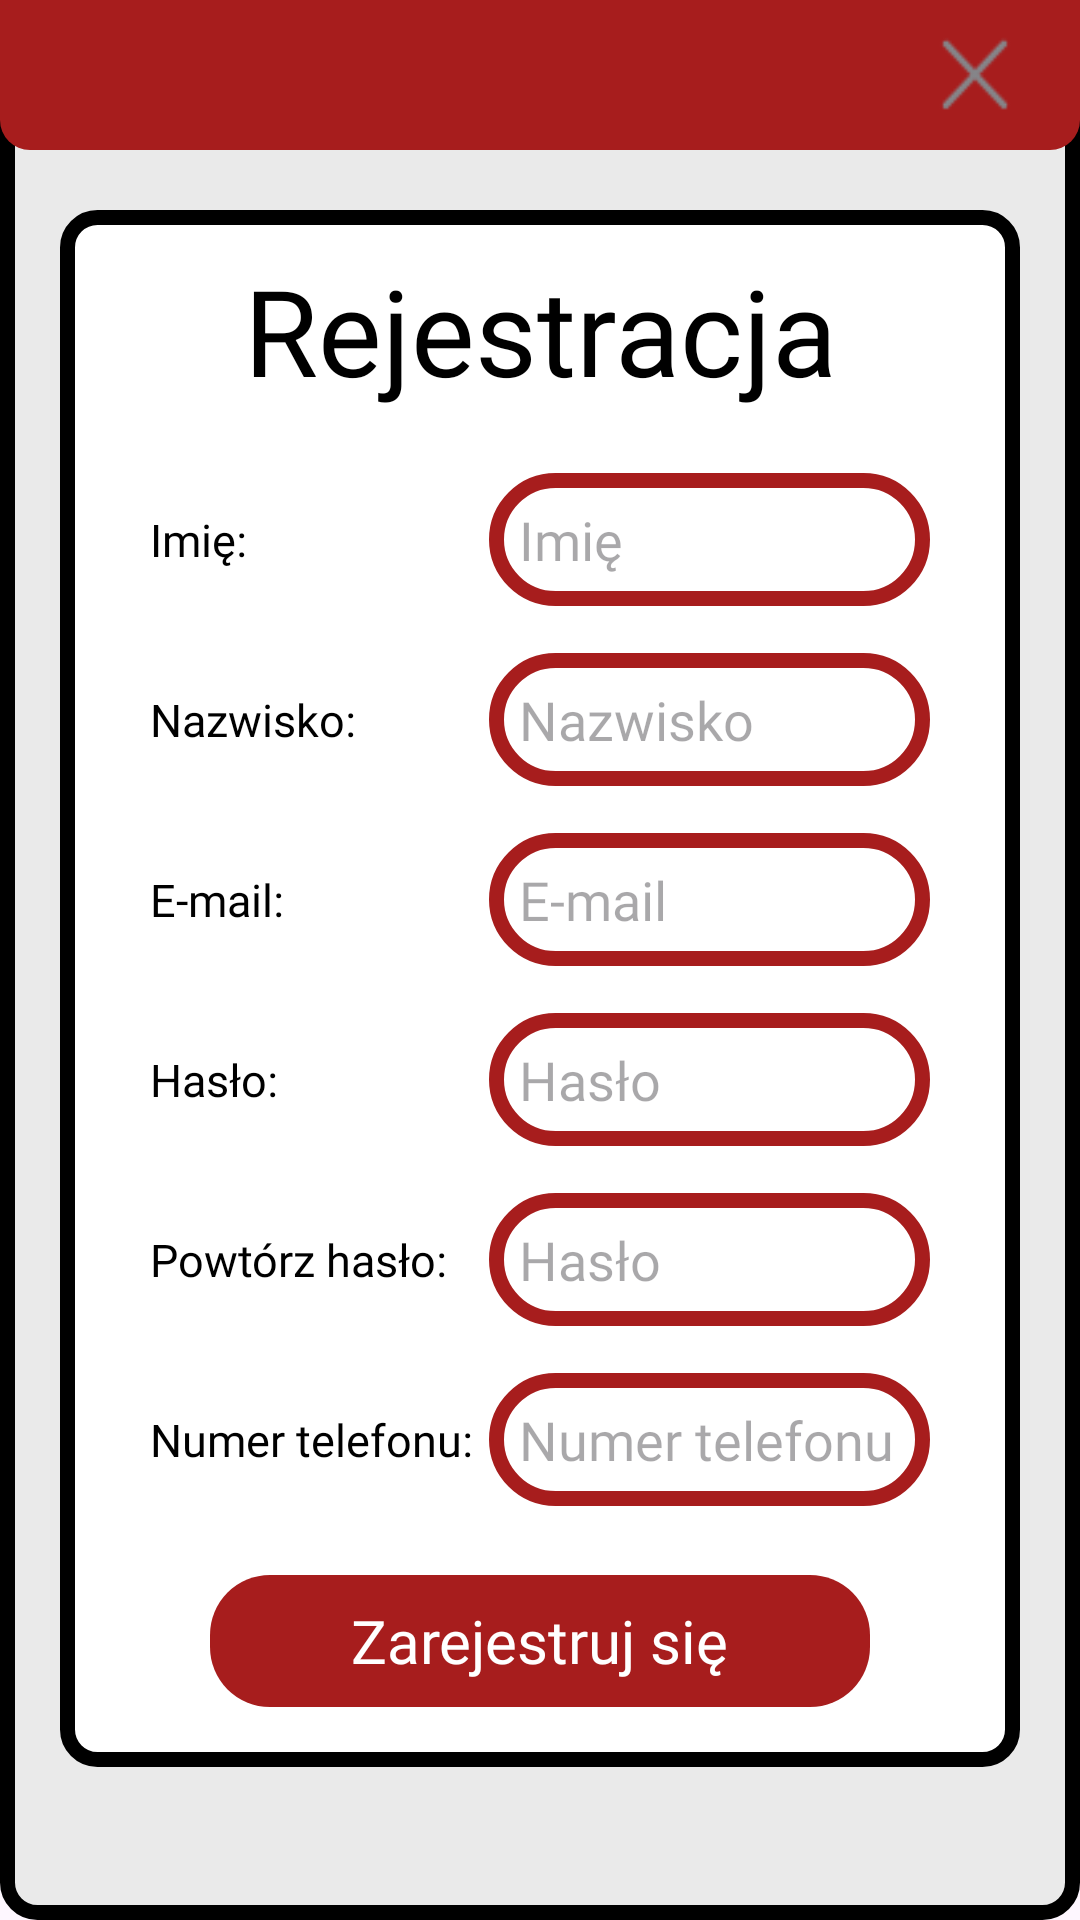

Icon bounding boxes for this 1080px x 1920px phone screenshot, format bbox=(x1, y1, x2, y2):
close photo: bbox=(942, 40, 1008, 109)
